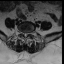CCS_normal: (24, 30, 26, 39)
LFS_stenosis: (28, 29, 30, 36)
LLS_normal: (26, 30, 28, 38)
RFS_stenosis: (21, 29, 23, 35)
RLS_normal: (23, 30, 24, 37)
